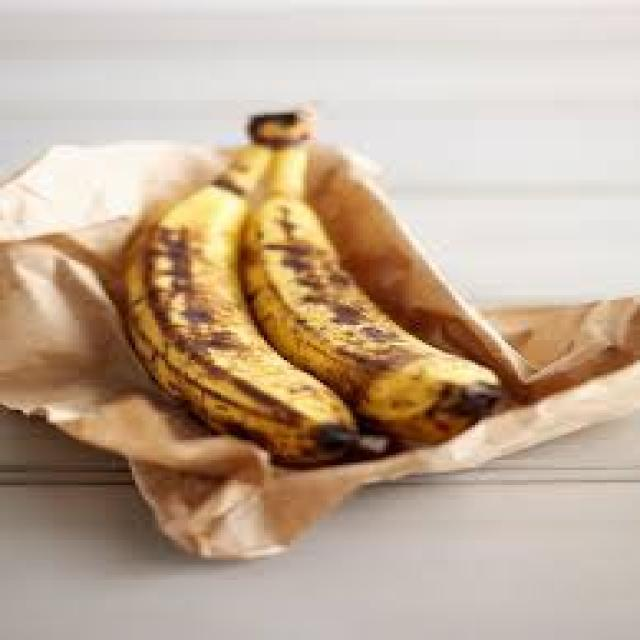Banana: (120, 104, 503, 464)
